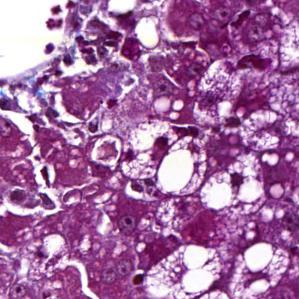ballooning: (120, 118, 208, 203), (142, 242, 223, 297), (228, 239, 293, 296)
